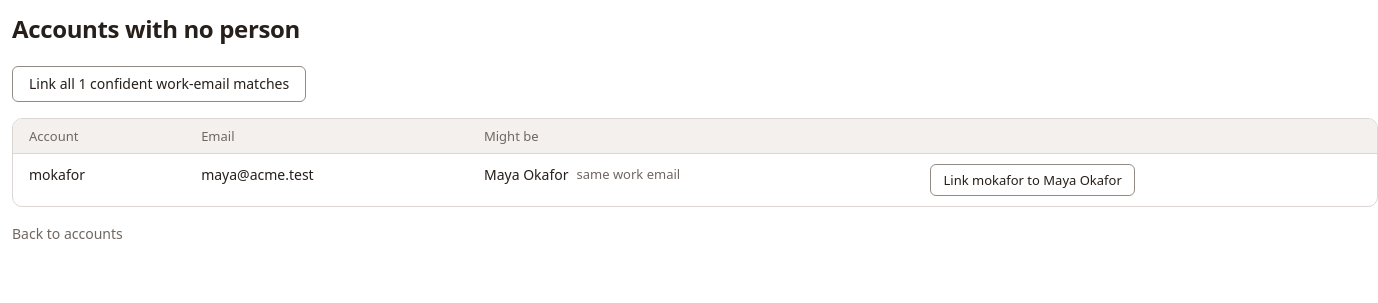
Test case: UnlinkedAccountsPage › reports a failed link rather than silently reloading
This screenshot has width=1378, height=303.
Click the button "Link mokafor to Maya Okafor". click: click(1033, 180)
box: [930,164,1135,196]
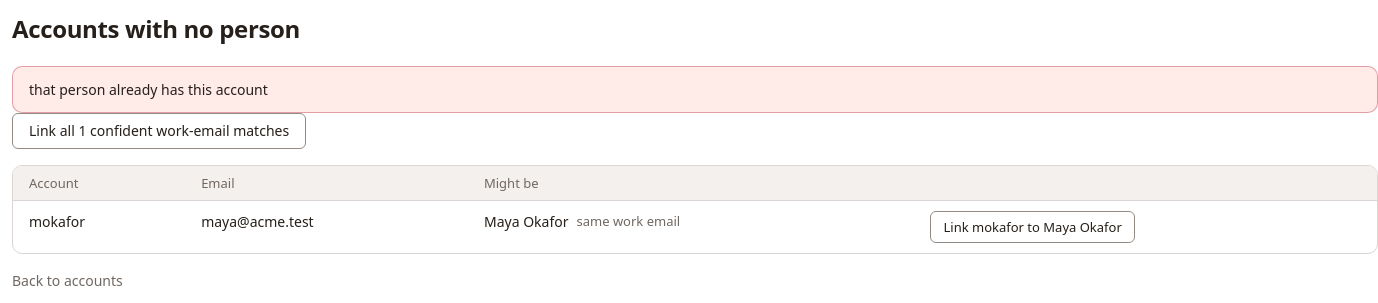
Expected: the text "that person already has this account" is shown, [29,80,268,99]
